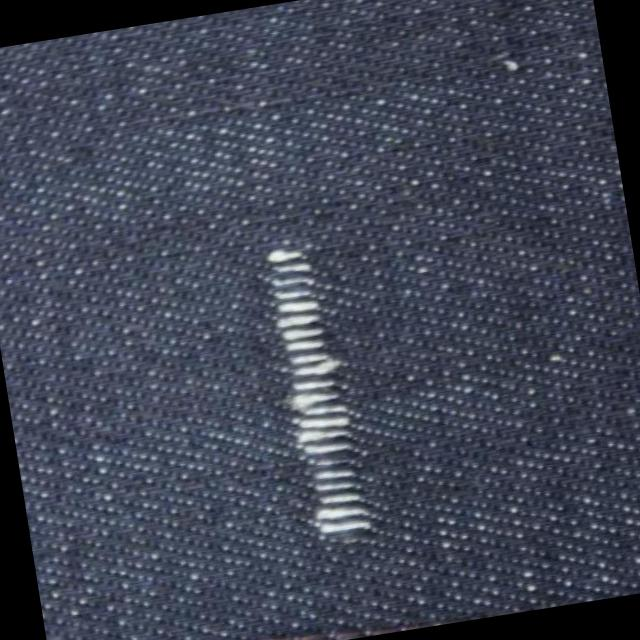Warp_Weft: (264, 237, 370, 542)
